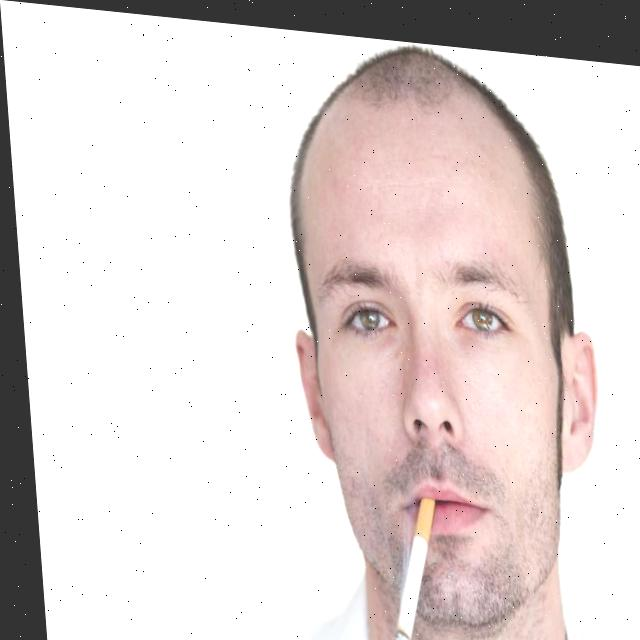cigarette: (375, 486, 436, 640)
